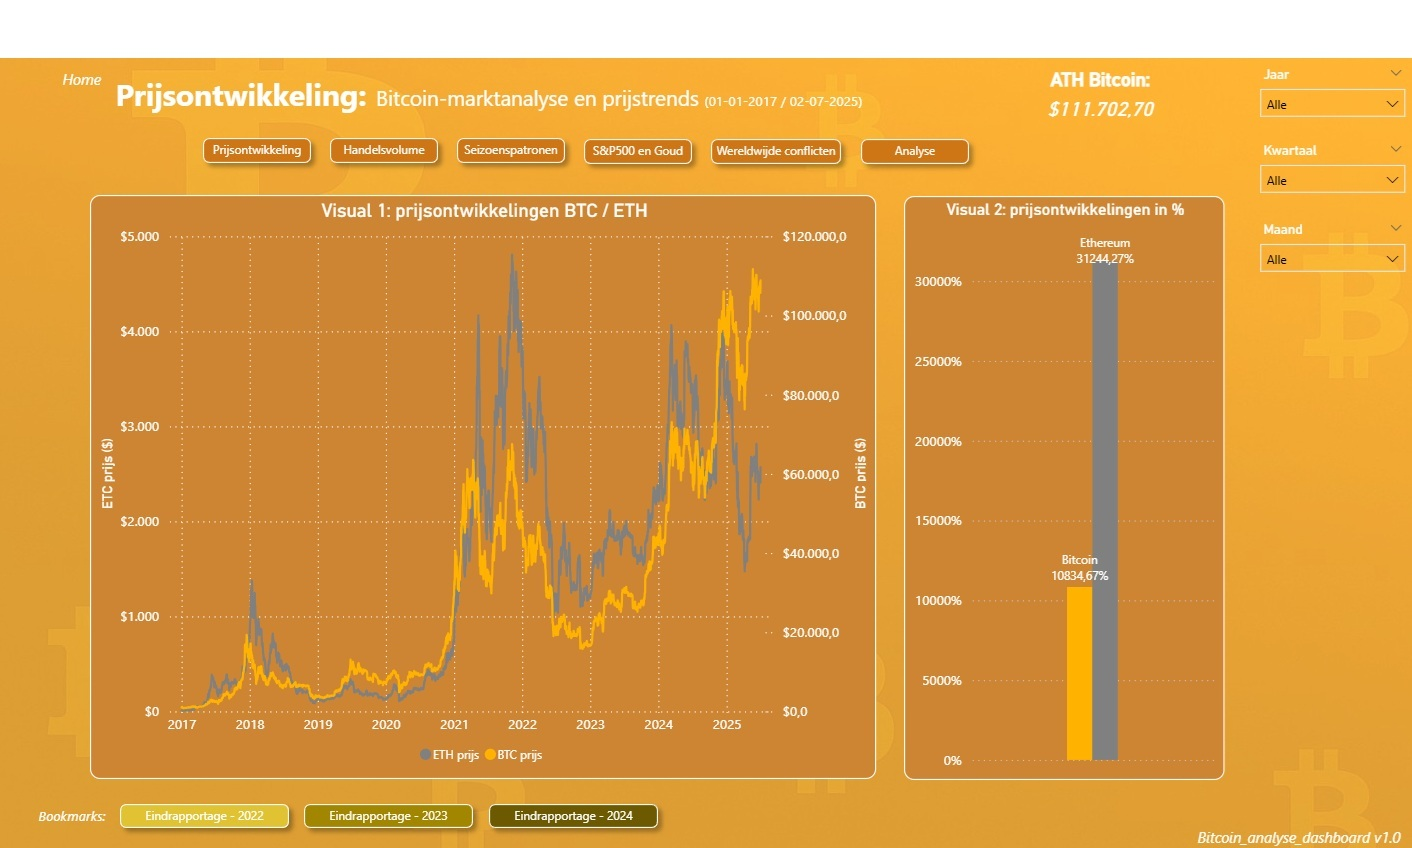

What the dashboard file says about the page in this screenshot:
{"tool":"powerbi","page":{"name":"Homepage - Prijsontwikkeling","canvas":[1280,720],"ordinal":0},"visuals":[{"type":"lineChart","title":"Visual 1: prijsontwikkelingen BTC / ETH","fields":{"Category":["date_table.Date"],"Y":["df_crypto_joined.Price_of_ETH"],"Y2":["df_crypto_joined.Price_of_BTC"]},"box":[92.3,131,704.5,523.1],"z":0},{"type":"clusteredColumnChart","title":"Visual 2: prijsontwikkelingen in %","fields":{"Y":["df_crypto_joined.Bitcoin prijs ontwikkeling in %","df_crypto_joined.Ethereum prijs ontwikkeling in %"]},"box":[821.1,131.3,286.9,523],"z":1000},{"type":"slicer","fields":{"Values":["date_table.Year"]},"box":[1130.2,10.7,149.8,68.1],"z":2000},{"type":"slicer","fields":{"Values":["date_table.Month Number"]},"box":[1130.2,149.8,149.8,68.1],"z":3000},{"type":"slicer","fields":{"Values":["date_table.Quarter"]},"box":[1130.2,78.8,149.8,68.1],"z":4000},{"type":"textbox","box":[110.1,10.7,953.7,60],"z":5000},{"type":"textbox","box":[1070.1,692.2,209.6,27.8],"z":6000},{"type":"shape","box":[184.5,70.5,114.6,40.3],"z":7000},{"type":"shape","box":[298.2,70.5,114.6,40.3],"z":8000},{"type":"shape","box":[411.9,70.5,114.6,40.3],"z":9000},{"type":"shape","box":[525.7,71.4,114.6,40.3],"z":10000},{"type":"shape","box":[639.4,71.4,134.3,40.3],"z":11000},{"type":"shape","box":[773.7,71.4,114.6,40.3],"z":12000},{"type":"textbox","box":[63,13,57,28],"z":13000},{"type":"shape","box":[110.1,667.2,169.3,39.4],"z":14000},{"type":"shape","box":[274.9,667.2,169.3,39.4],"z":15000},{"type":"shape","box":[440.6,667.2,169.3,39.4],"z":16000},{"type":"textbox","box":[41.2,672.5,78.8,27.8],"z":17000},{"type":"card","title":"ATH Bitcoin:","fields":{"Values":["df_crypto_joined.All_time_high_BTC"]},"box":[911.6,17,170.1,54.6],"z":18000}]}

Visuals, with their boxes on the page's 1280x720 design canvas (x1, y1, x2, y2). These are canvas units, not pixel positions in the 1412x848 screenshot, which may show the page scaled, cropped or inside an application window:
"Visual 1: prijsontwikkelingen BTC / ETH" lineChart: <box>92,131,797,654</box>
"Visual 2: prijsontwikkelingen in %" clusteredColumnChart: <box>821,131,1108,654</box>
slicer - date_table.Year: <box>1130,11,1280,79</box>
slicer - date_table.Month Number: <box>1130,150,1280,218</box>
slicer - date_table.Quarter: <box>1130,79,1280,147</box>
textbox: <box>110,11,1064,71</box>
textbox: <box>1070,692,1280,720</box>
shape: <box>184,70,299,111</box>
shape: <box>298,70,413,111</box>
shape: <box>412,70,526,111</box>
shape: <box>526,71,640,112</box>
shape: <box>639,71,774,112</box>
shape: <box>774,71,888,112</box>
textbox: <box>63,13,120,41</box>
shape: <box>110,667,279,707</box>
shape: <box>275,667,444,707</box>
shape: <box>441,667,610,707</box>
textbox: <box>41,672,120,700</box>
"ATH Bitcoin:" card: <box>912,17,1082,72</box>
